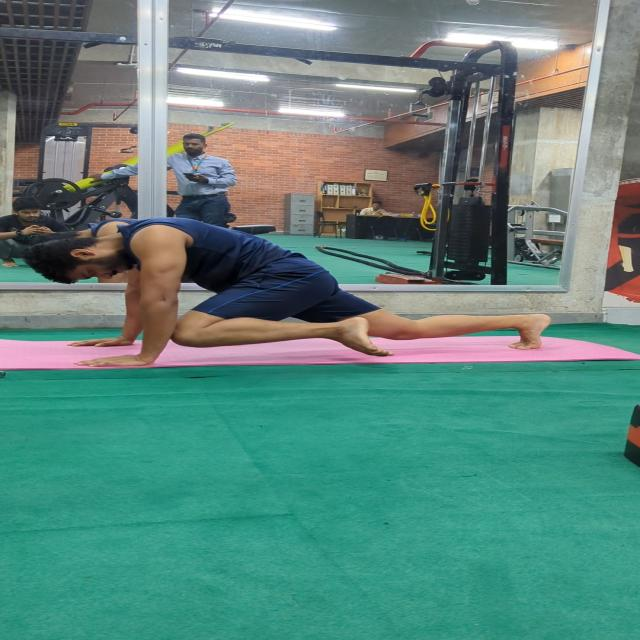Normal_MountainClimbers: (20, 208, 573, 386)
